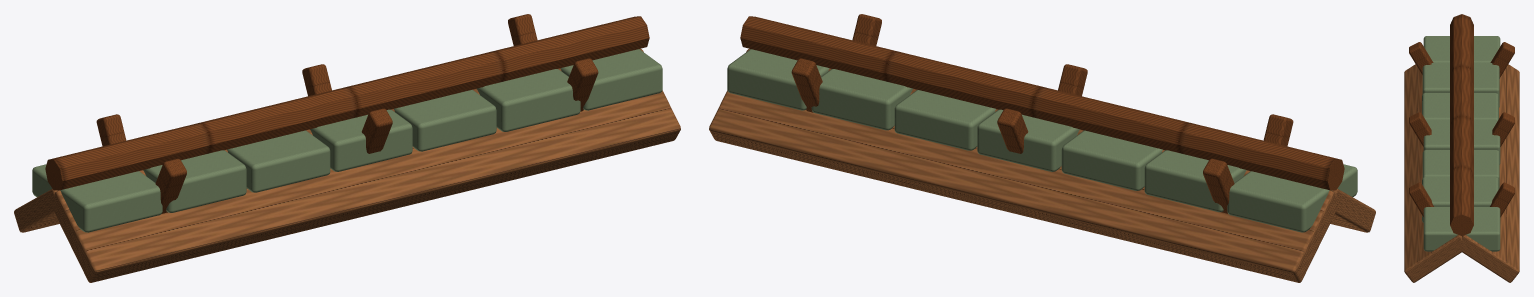
Rendered from viking-age-longhouse-and-longship-turf-roof-ridge-cap-ecbdea30__30170.glb.
3 views of the same model, side by side, from view 1: azimuth 30°, elevation 25°; view 2: azimuth 150°, elevation 25°; view 3: azimuth 270°, elevation 25° (orthographic). The views are drawn at different scales.
Parts seen in each view (by area): view 1: turf-roof-ridge-cap; view 2: turf-roof-ridge-cap; view 3: turf-roof-ridge-cap.
Part boxes in pixels (box(x1,y1,x2,y2)): turf-roof-ridge-cap: box(14, 14, 680, 282); turf-roof-ridge-cap: box(709, 14, 1375, 282); turf-roof-ridge-cap: box(1404, 14, 1519, 282).
Size of the model in its own units: 3 by 0.4813 by 0.7295.
Materials: 3 (3 with a texture image).
